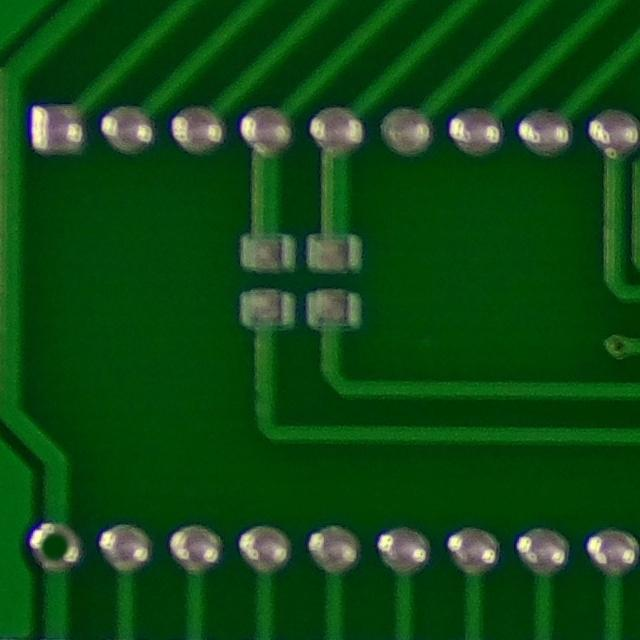missing_hole: (23, 518, 90, 578)
